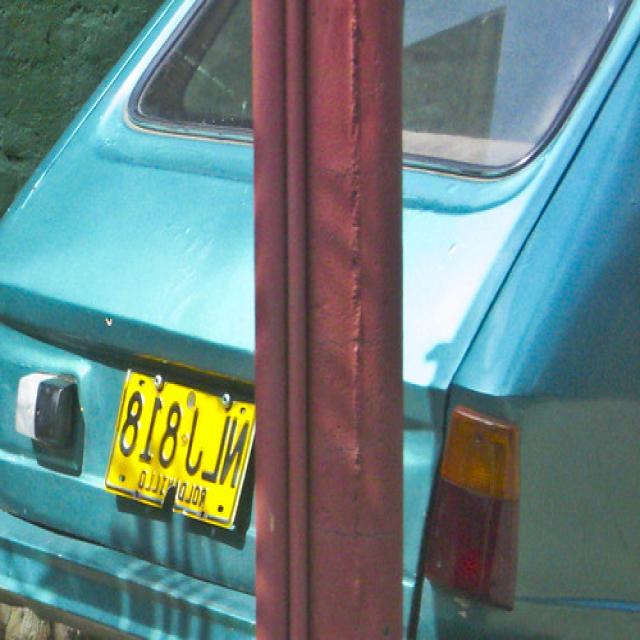placas: (113, 368, 254, 491)
